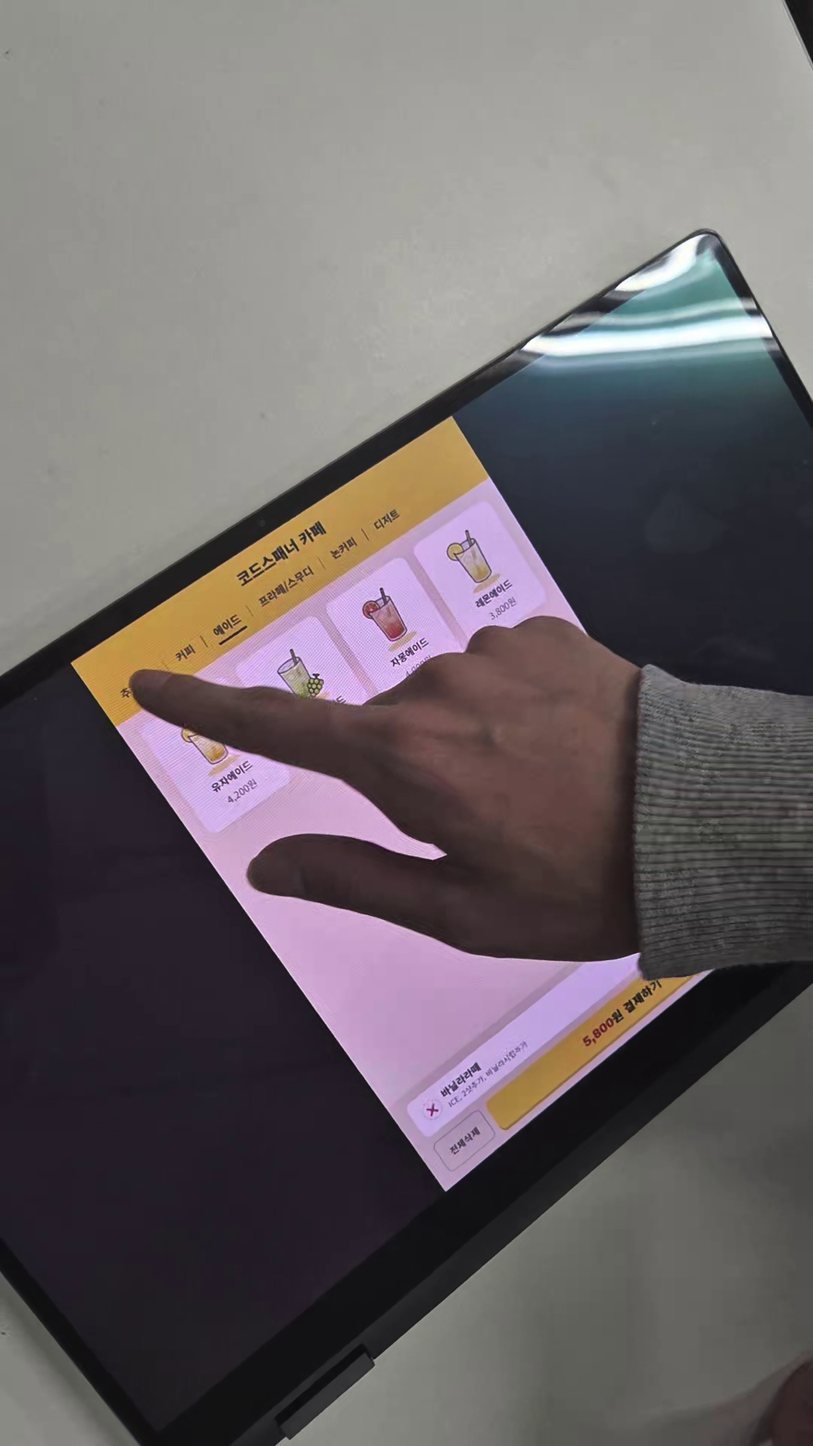action_button: (484, 905, 754, 1131), (434, 1111, 495, 1171)
cart_item: (404, 869, 727, 1140)
category_tab: (252, 561, 318, 612), (327, 534, 361, 566), (209, 612, 244, 641), (370, 506, 402, 536), (170, 639, 201, 669)
menu_back: (144, 682, 291, 834), (237, 616, 376, 768), (327, 558, 462, 700), (415, 502, 546, 644)
menu_name: (206, 755, 257, 798), (388, 634, 431, 670), (472, 577, 514, 610)
menu_price: (222, 777, 260, 807), (486, 594, 519, 622)
